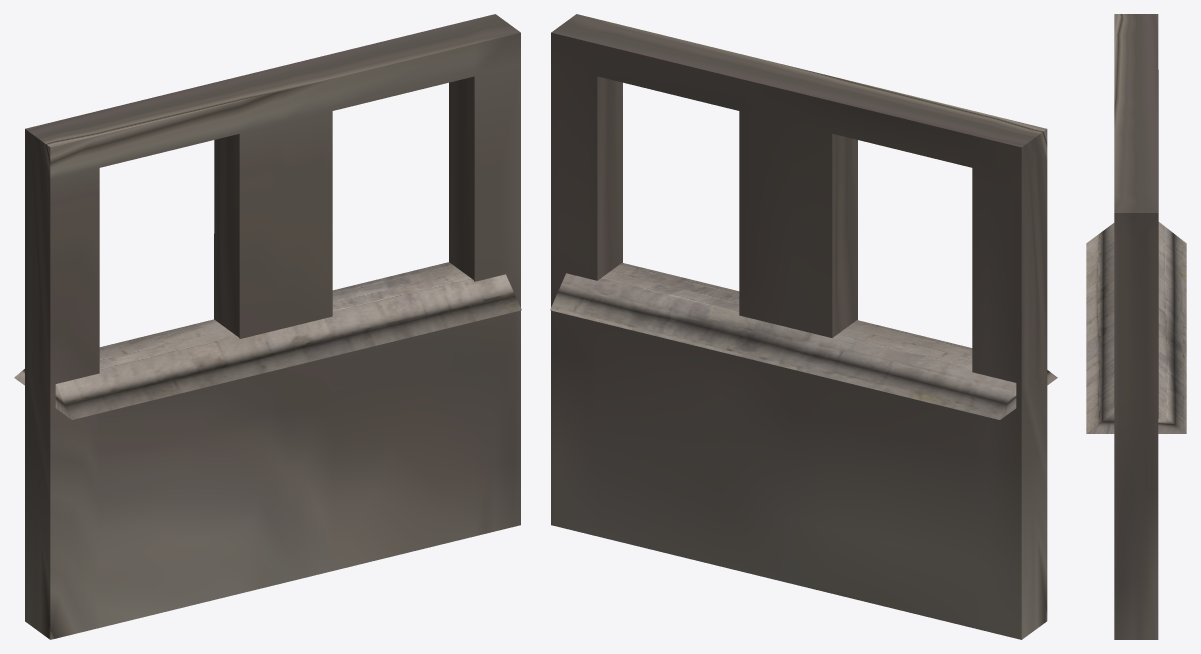
File: stair_wall_double_top.glb
The picture shows the model from 3 angles, left to right: view 1: azimuth 30°, elevation 25°; view 2: azimuth 150°, elevation 25°; view 3: azimuth 270°, elevation 25°; orthographic projection. The views are drawn at different scales.
Visible parts, largest first — view 1: stair_wall_double_top; view 2: stair_wall_double_top; view 3: stair_wall_double_top.
Part boxes in pixels (bbox=[...]): stair_wall_double_top: bbox=[14, 14, 521, 639]; stair_wall_double_top: bbox=[550, 14, 1057, 639]; stair_wall_double_top: bbox=[1086, 14, 1186, 639].
Bounding box in the file's own units: 8 × 8 × 1.7.
2 materials, 2 textured.
